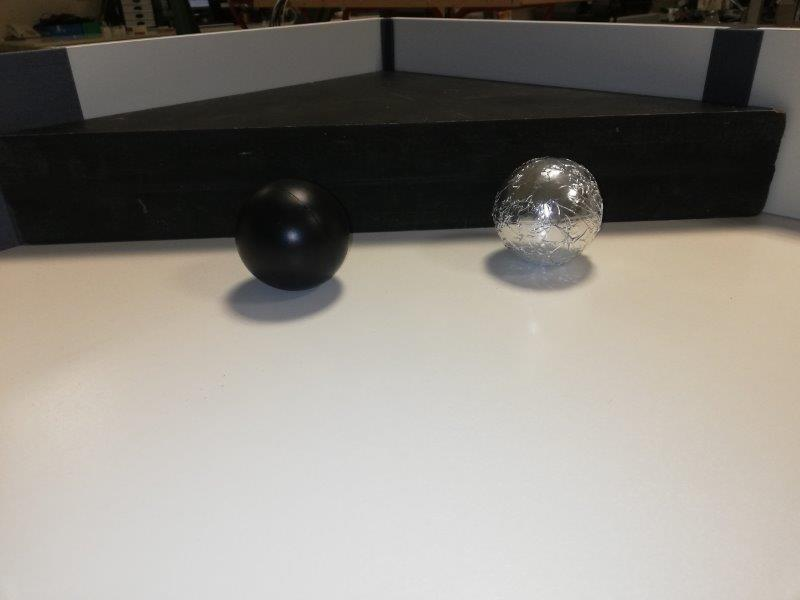bianca: (491, 154, 603, 264)
nera: (236, 179, 348, 292)
